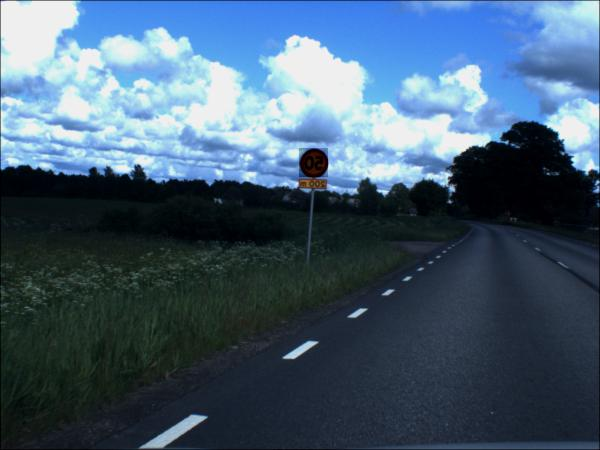50_SIGN: (299, 149, 329, 179)
